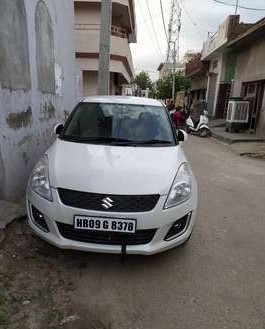HR09G8378: (74, 215, 136, 233)
